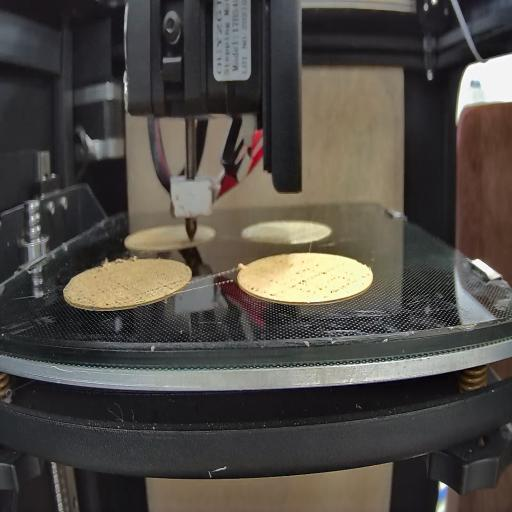under_extrusion: (290, 260, 356, 296), (77, 278, 131, 307), (146, 278, 180, 300), (247, 281, 280, 301)
